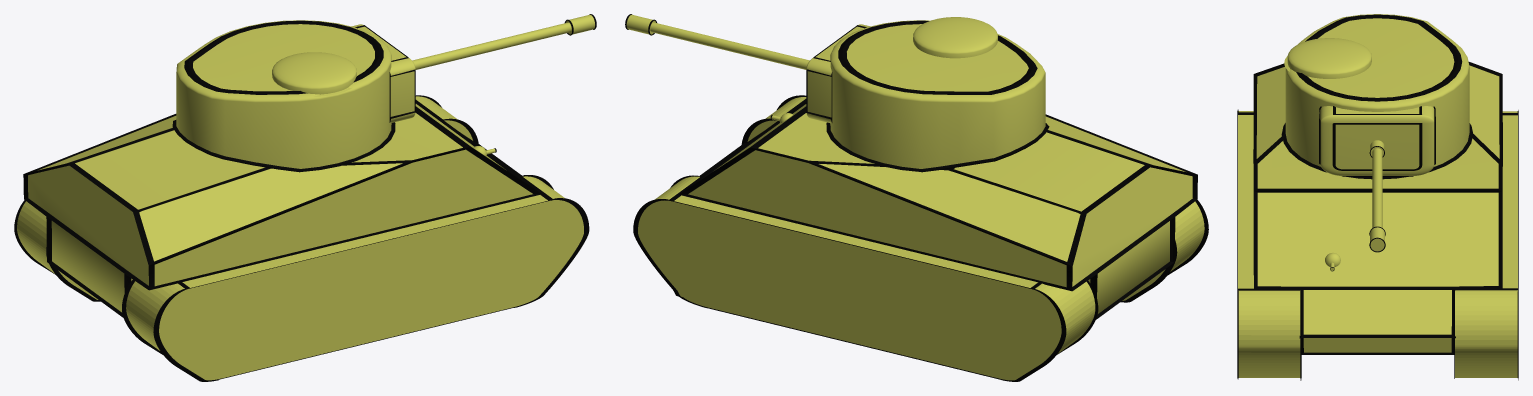
The model's file is tankm4a3e8_visual.glb.
3 views of the same model, side by side, from view 1: azimuth 30°, elevation 25°; view 2: azimuth 150°, elevation 25°; view 3: azimuth 270°, elevation 25° (orthographic).
Visible parts, largest first — view 1: Cubo, Cubo.002, Cilindro, Cilindro.006, Cilindro.002, Cubo.005, Cubo.003, Cilindro.001, Cubo.001, Cubo.006; view 2: Cubo, Cubo.003, Cilindro, Cilindro.006, Cilindro.002, Cubo.006, Cubo.002, Cilindro.001, Cubo.001, Cubo.005; view 3: Cubo, Cilindro, Cubo.002, Cubo.003, Cubo.001, Cilindro.002, Cilindro.006, Cubo.004, Cilindro.001, Cubo.005, Cubo.006, Cilindro.004.
Boxes of the visible parts, box(x1,y1,x2,y2) form: Cubo: box(23, 101, 541, 321); Cubo.002: box(126, 176, 583, 380); Cilindro: box(176, 20, 391, 168); Cilindro.006: box(172, 20, 395, 172); Cilindro.002: box(272, 52, 356, 94); Cubo.005: box(122, 175, 589, 381); Cubo.003: box(17, 96, 472, 299); Cilindro.001: box(412, 22, 571, 69); Cubo.001: box(351, 24, 415, 122); Cubo.006: box(14, 95, 478, 301); Cubo: box(679, 102, 1197, 322); Cubo.003: box(638, 176, 1095, 380); Cilindro: box(830, 20, 1045, 168); Cilindro.006: box(826, 20, 1049, 172); Cilindro.002: box(913, 17, 997, 58); Cubo.006: box(633, 175, 1098, 381); Cubo.002: box(747, 97, 1204, 300); Cilindro.001: box(650, 22, 809, 69); Cubo.001: box(806, 24, 870, 123); Cubo.005: box(741, 95, 1208, 302); Cubo: box(1253, 62, 1502, 354); Cilindro: box(1285, 14, 1469, 166); Cubo.002: box(1238, 111, 1300, 377); Cubo.003: box(1455, 111, 1517, 377); Cubo.001: box(1320, 106, 1434, 175); Cilindro.002: box(1287, 38, 1371, 78); Cilindro.006: box(1281, 14, 1472, 179); Cubo.004: box(1319, 106, 1435, 176); Cilindro.001: box(1372, 148, 1382, 227); Cubo.005: box(1237, 109, 1301, 380); Cubo.006: box(1454, 110, 1518, 380); Cilindro.004: box(1370, 227, 1384, 251).
Size of the model in its own units: 13.86 by 6.42 by 6.66.
